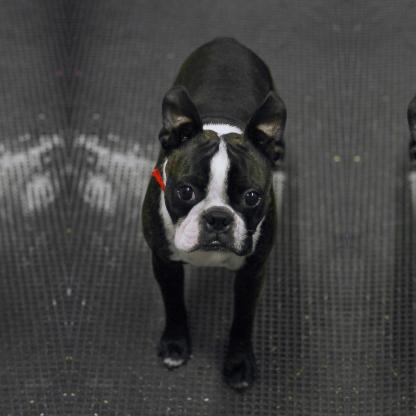Dog: (137, 36, 287, 392)
